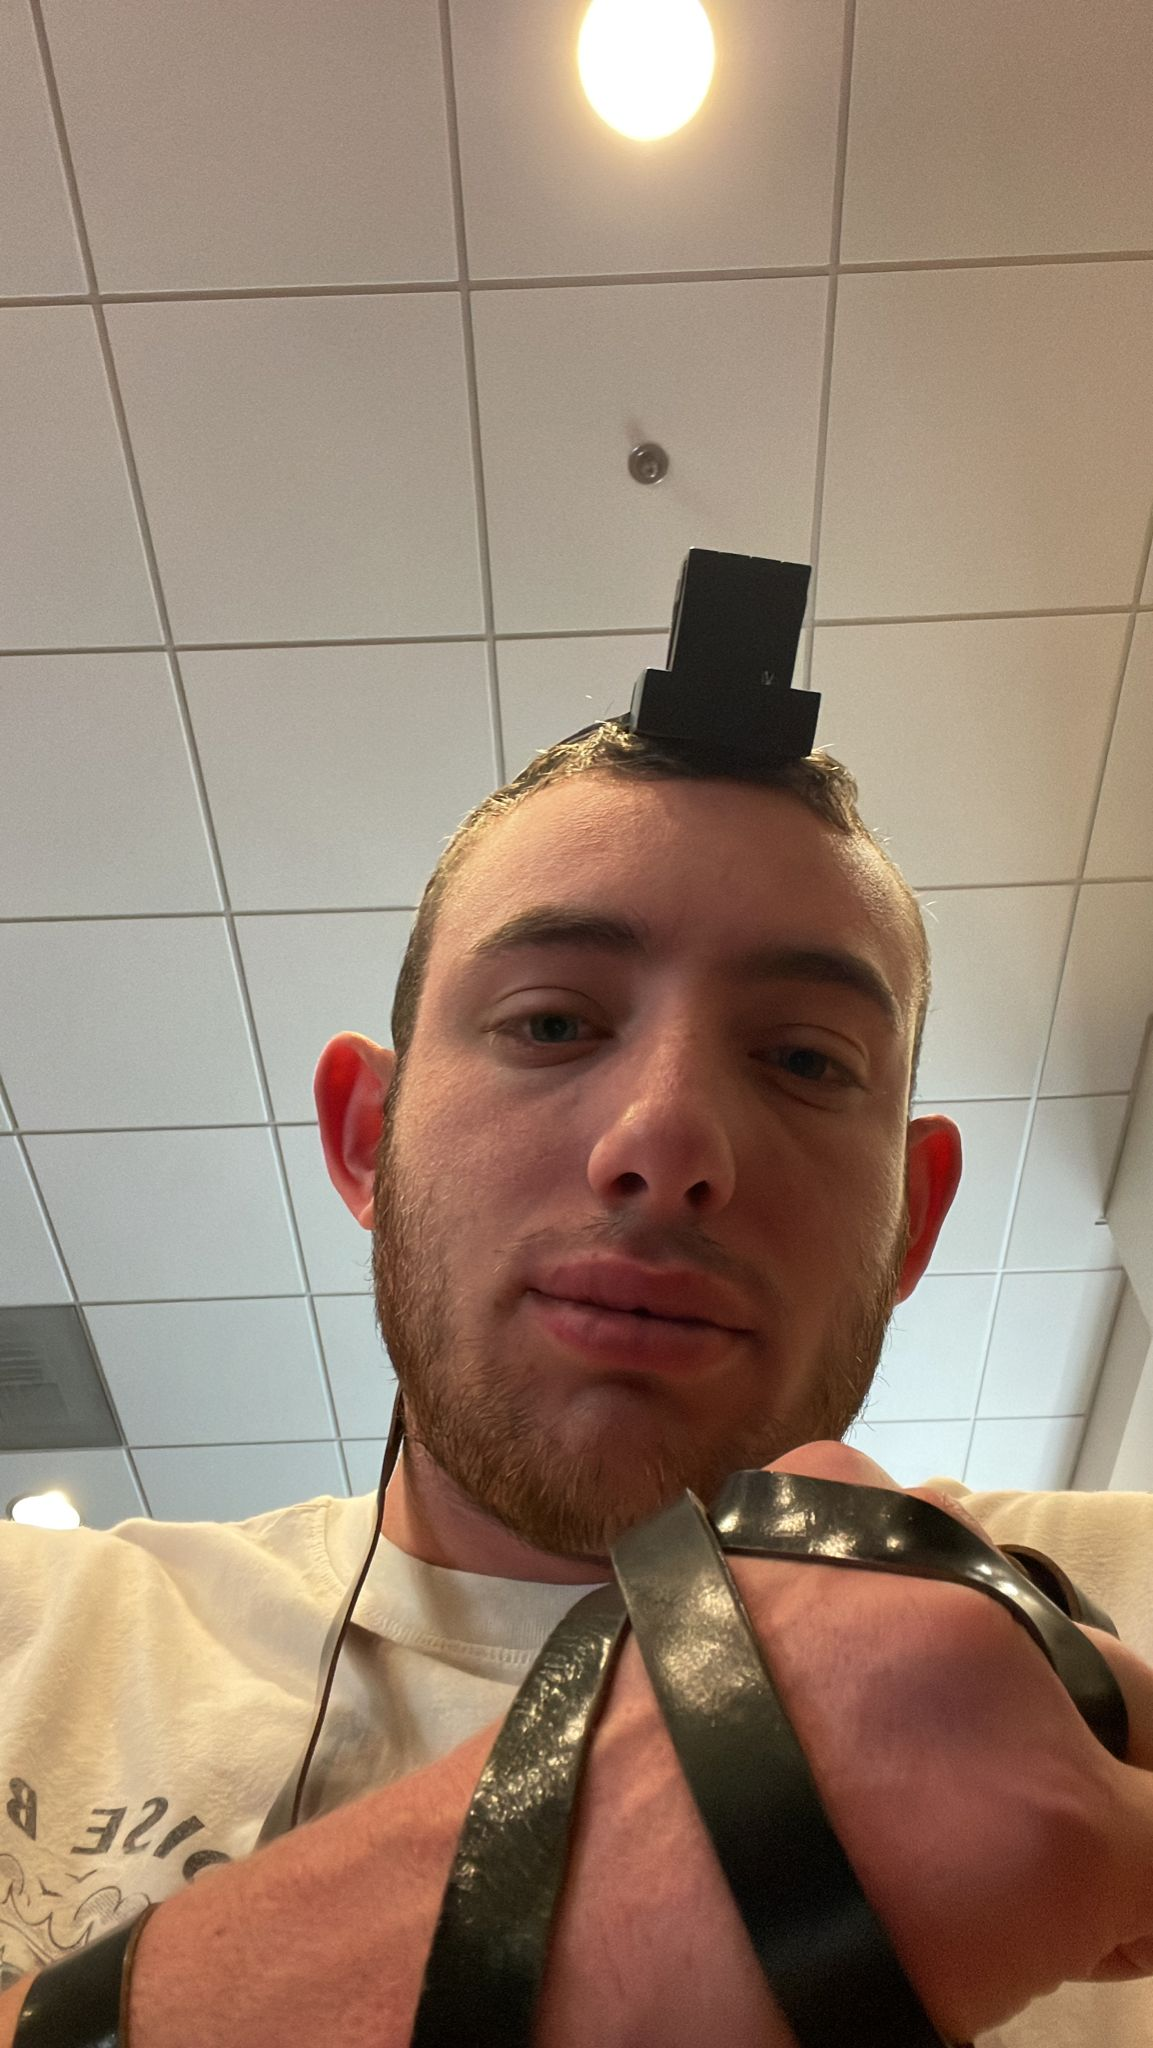tefillin: (630, 546, 824, 769)
